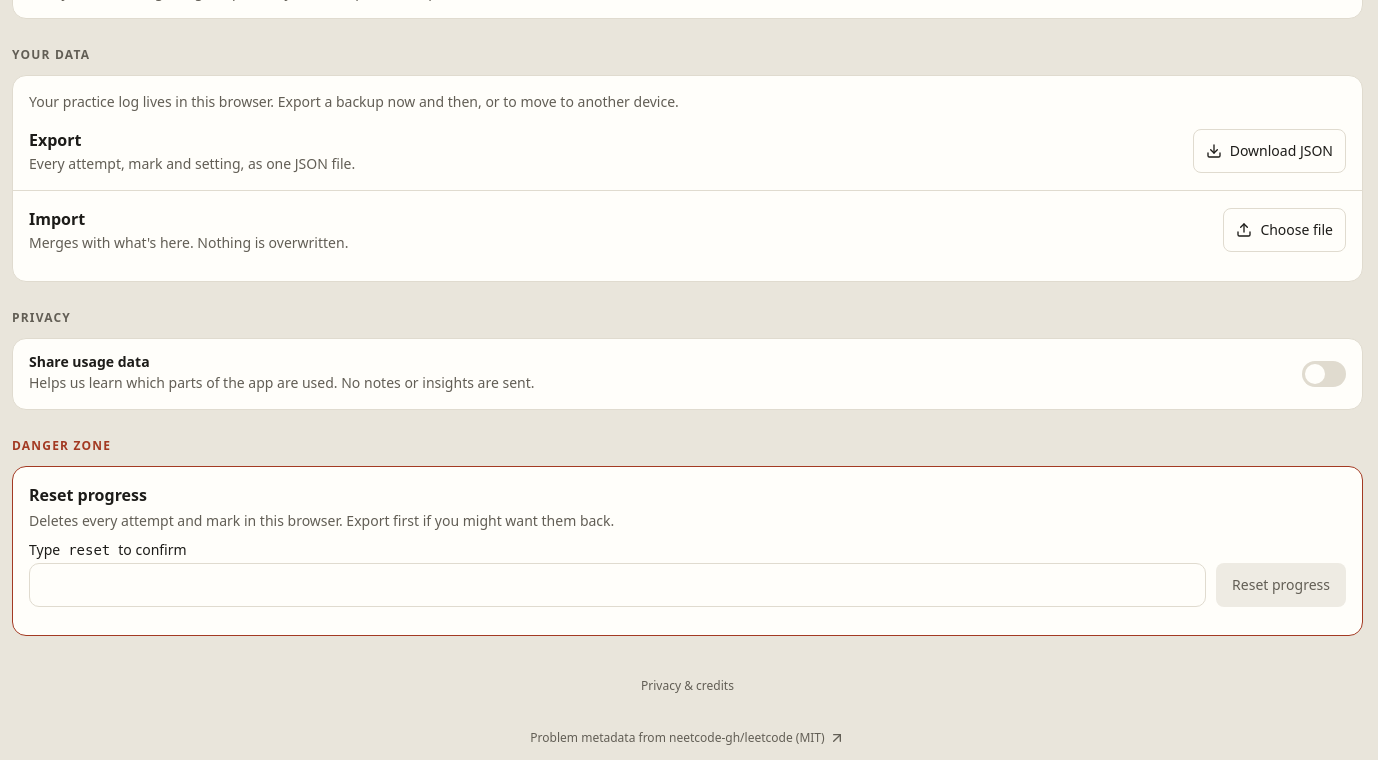
SettingsPage › keeps Reset progress disabled until reset is typed
(page scrolled)
Expected: the button "Reset progress" is disabled, [1216,563,1346,607]
Step 1. Type "rese" into the field labelled "Type reset to confirm" → (618, 585), box [29,563,1206,607]
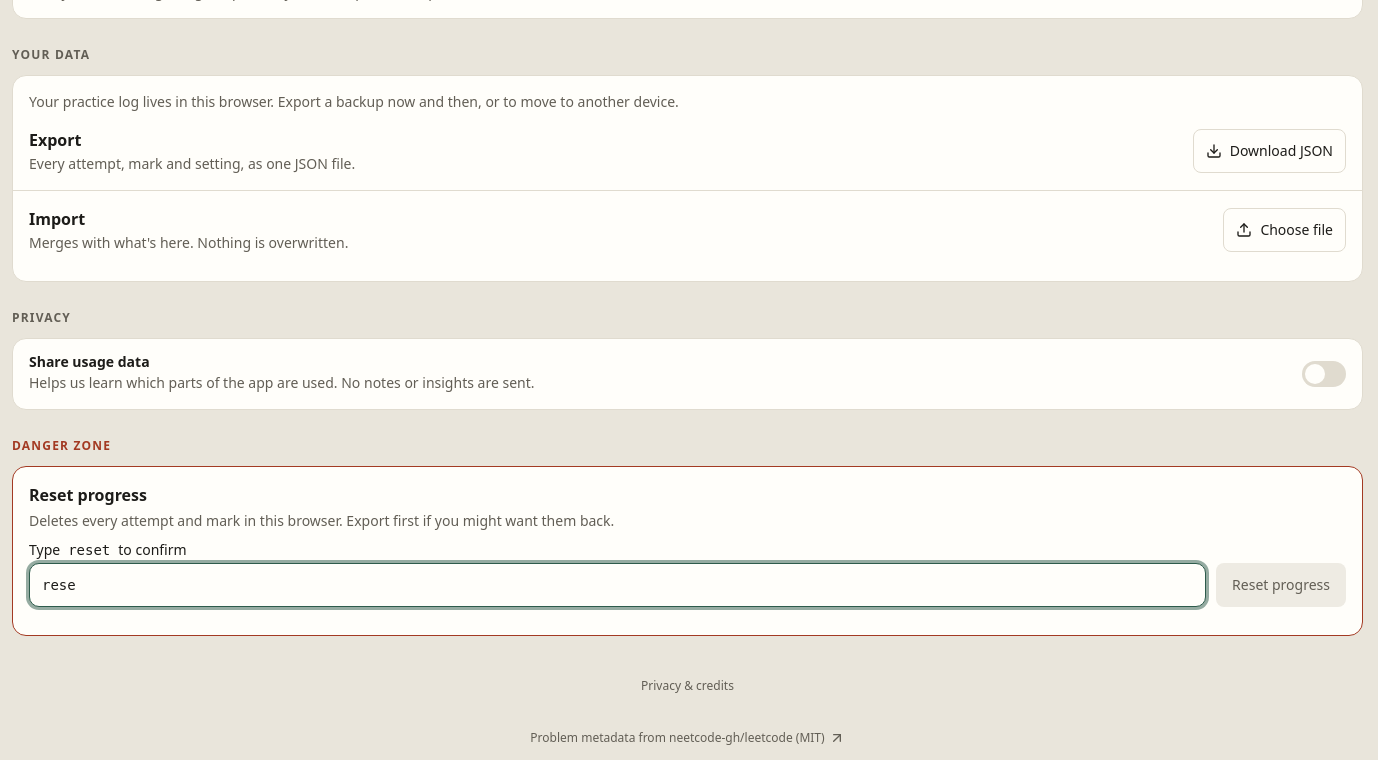
Expected: the button "Reset progress" is disabled, [1216,563,1346,607]
Step 2. Type "t" into the field labelled "Type reset to confirm" → (618, 585), box [29,563,1206,607]
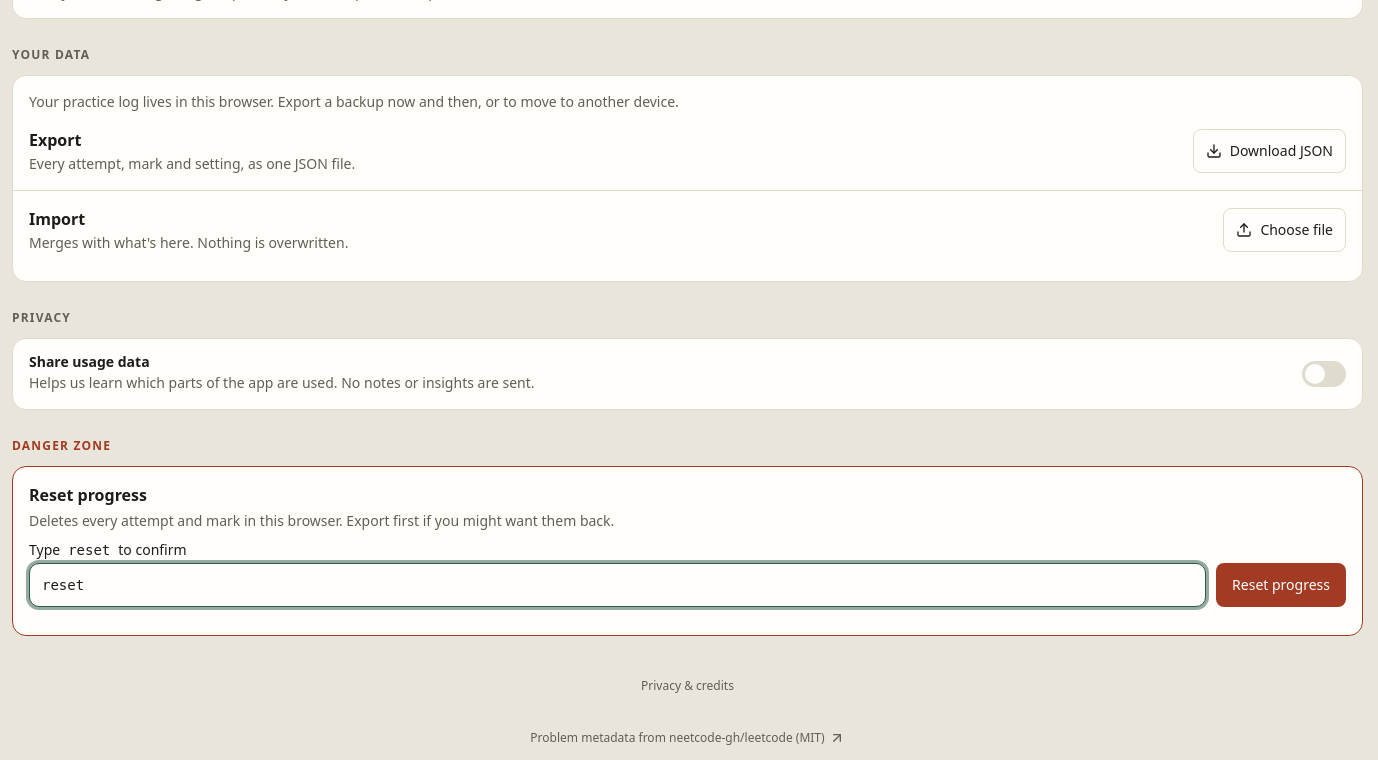
Result: the button "Reset progress" is enabled at [1216,563,1346,607]
